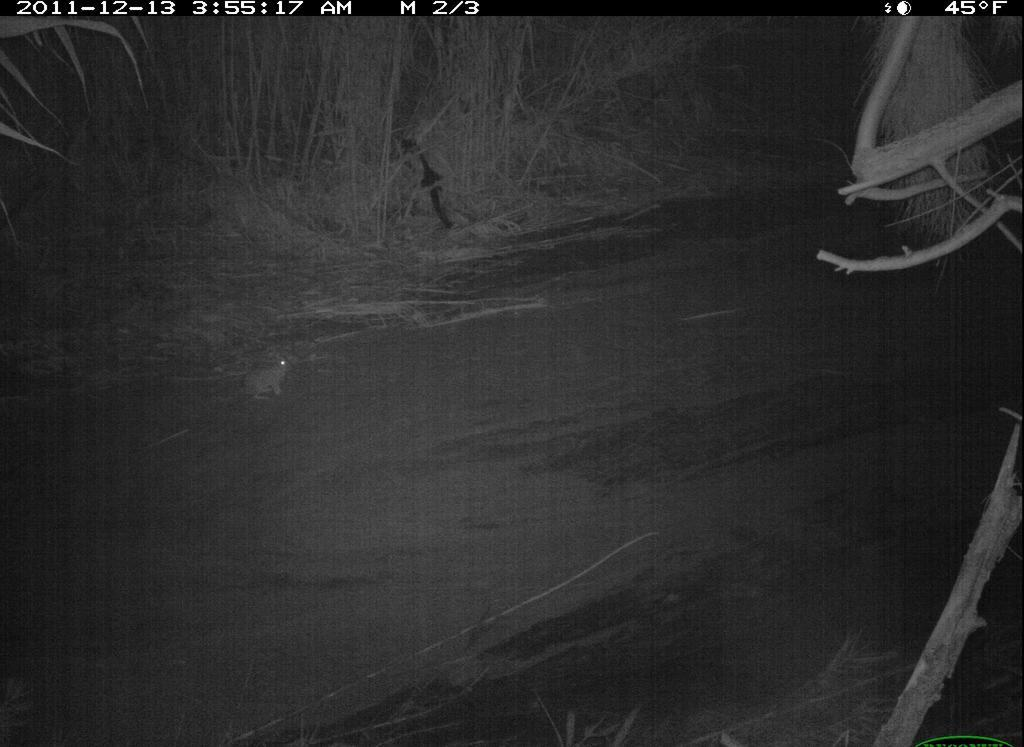rabbit: (239, 351, 296, 409)
